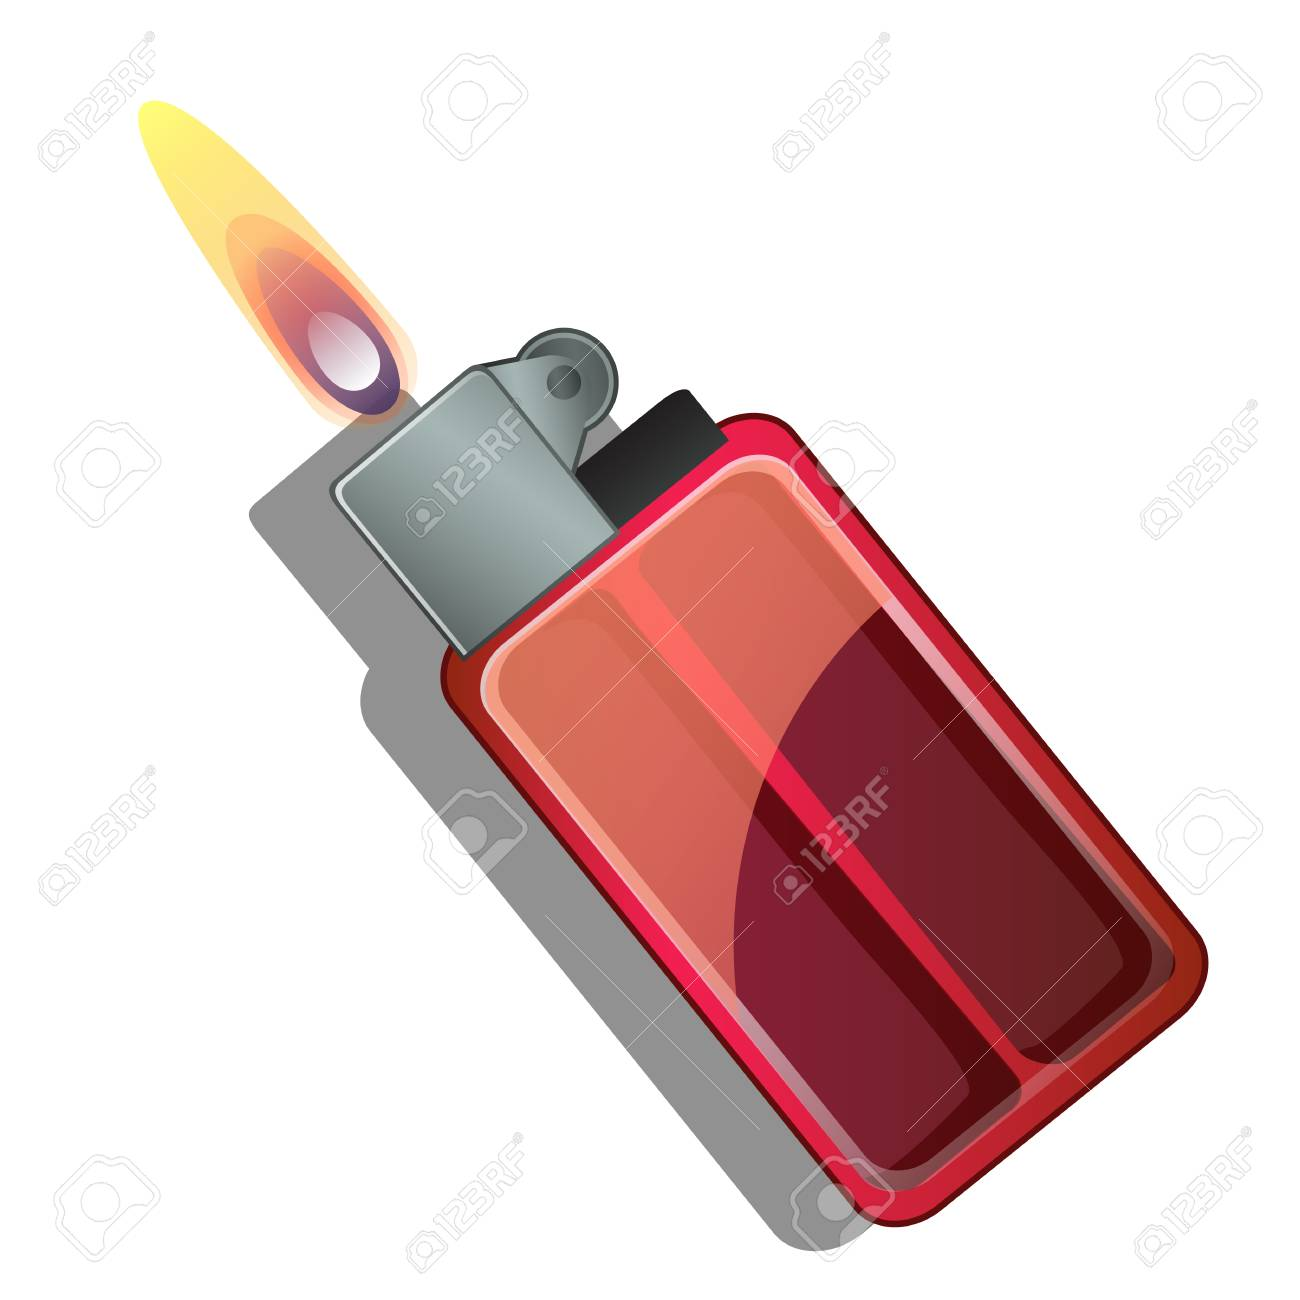Nonrec_Other: (169, 121, 1215, 1248)
